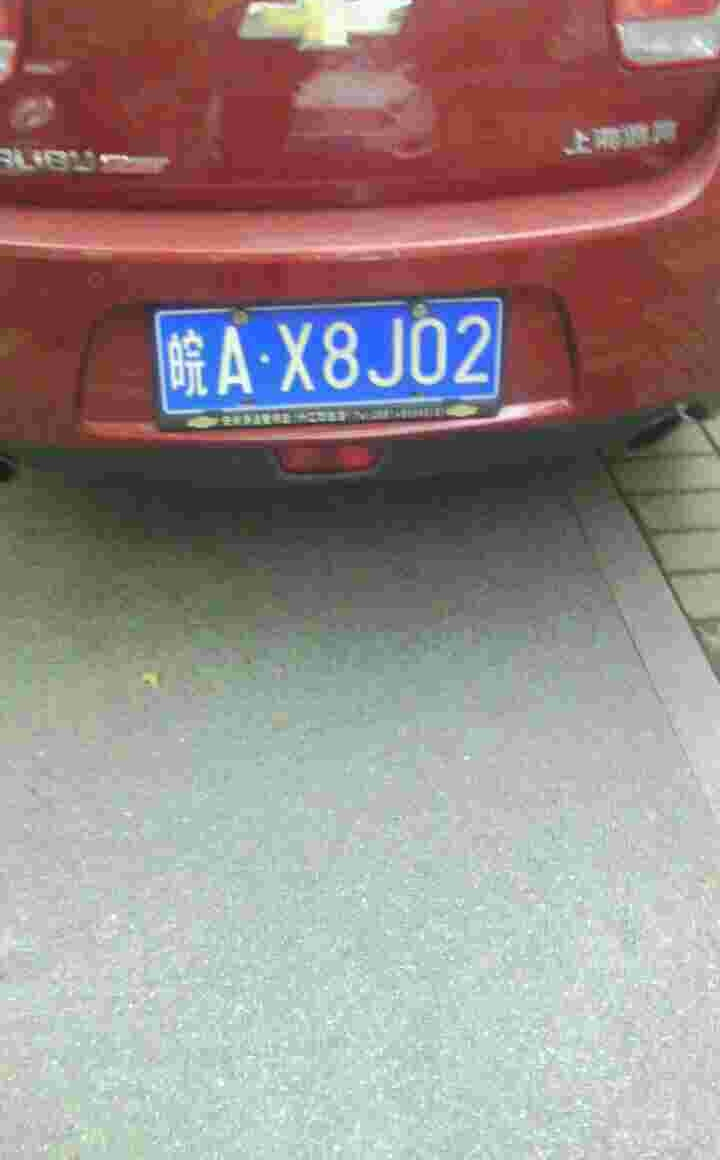license_plate: (169, 303, 512, 412)
